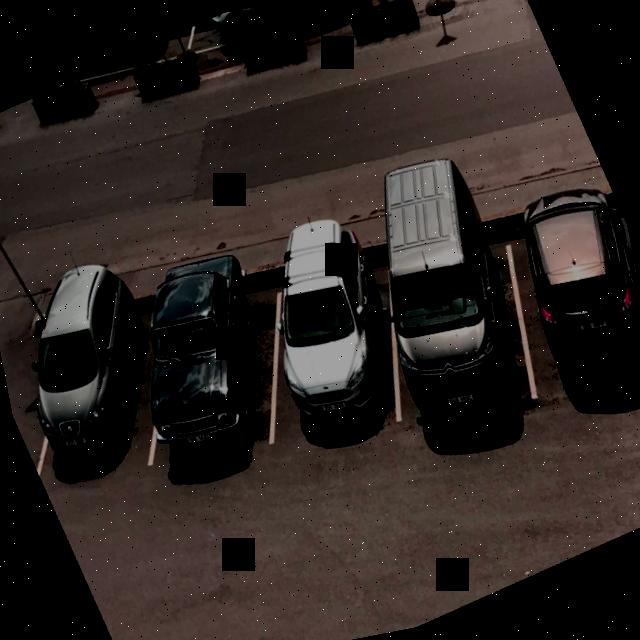car: (86, 238, 354, 507), (328, 196, 584, 474), (206, 218, 457, 500), (0, 263, 209, 516), (468, 169, 640, 439), (186, 0, 389, 81), (49, 22, 219, 114)
